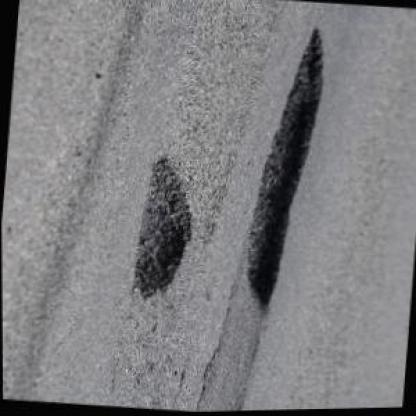pothole: (237, 22, 330, 316), (125, 153, 197, 304)
